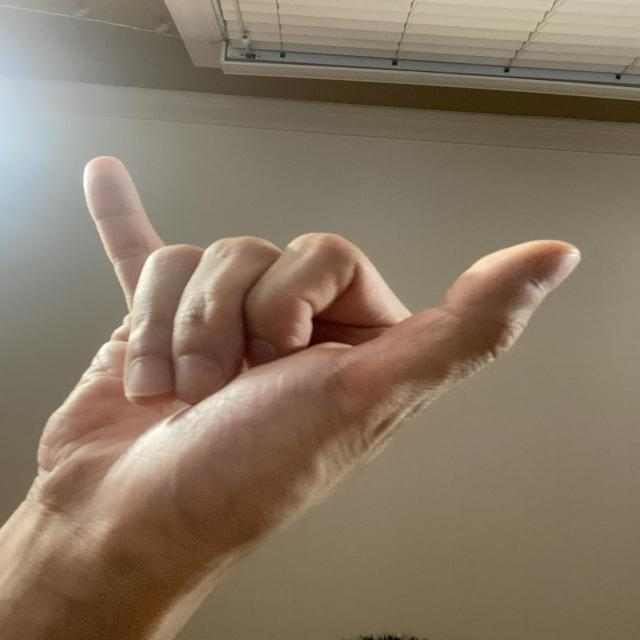Y: (28, 146, 591, 594)
